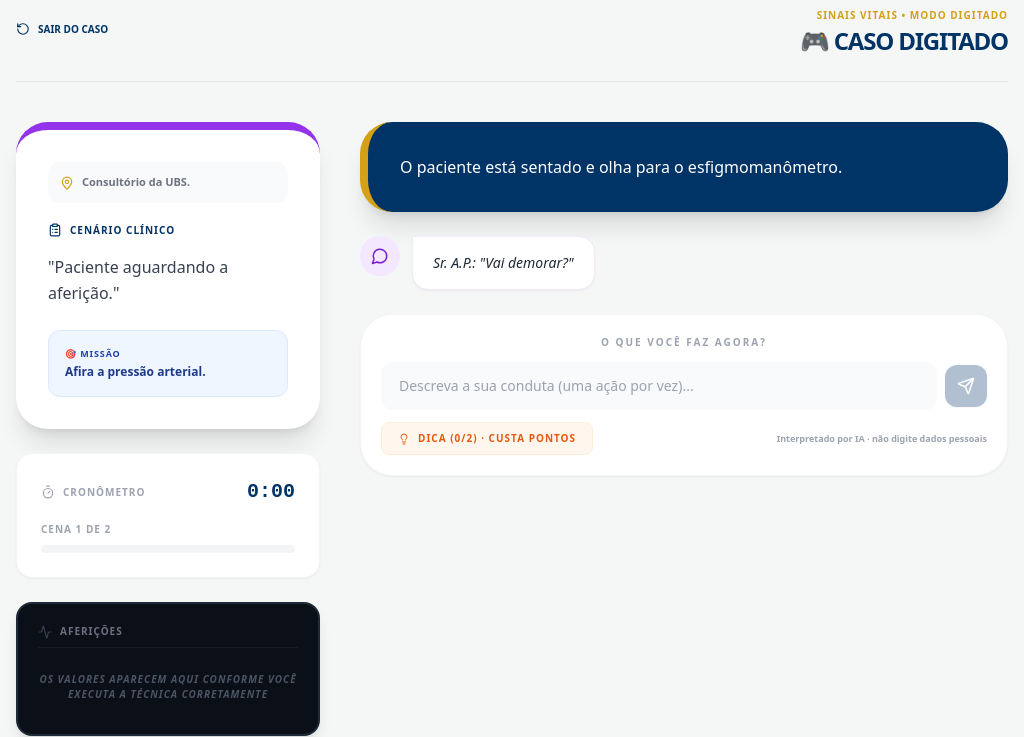
GuidedRpgView — modo digitado › repetir uma conduta errada que já foi vista avisa e não conta nova tentativa
Type "já vou medindo" into the field.
click(659, 386); type("já vou medindo")  # box x1=381 y1=362 x2=937 y2=410
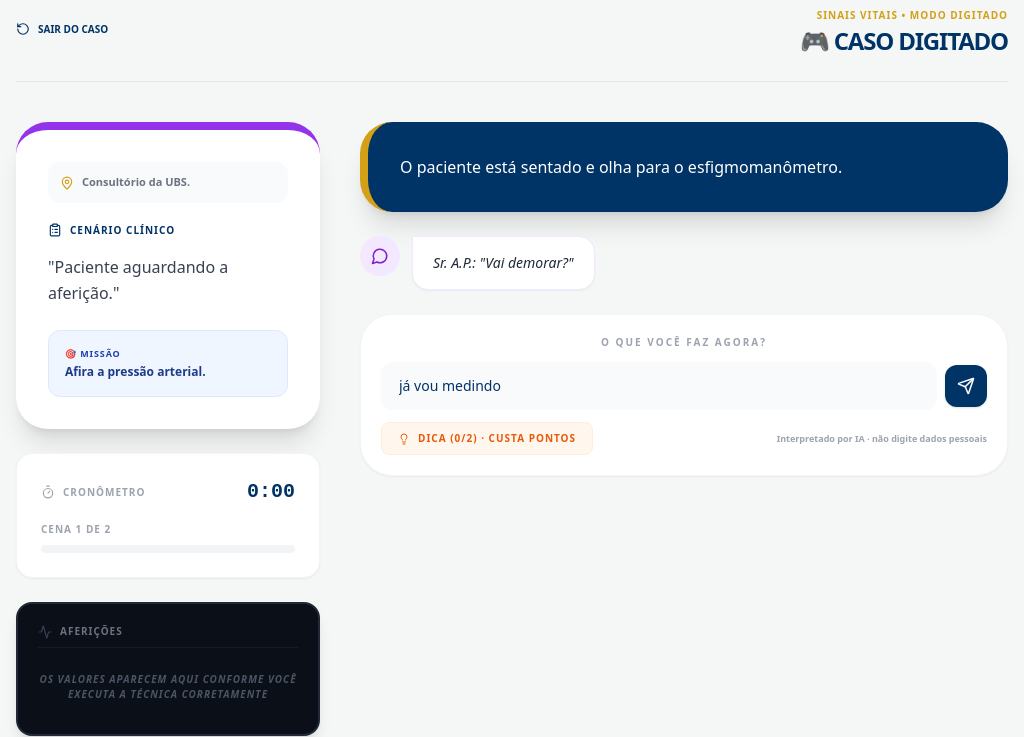
Click the button named "Enviar conduta".
click(966, 386)  # box x1=945 y1=365 x2=987 y2=407
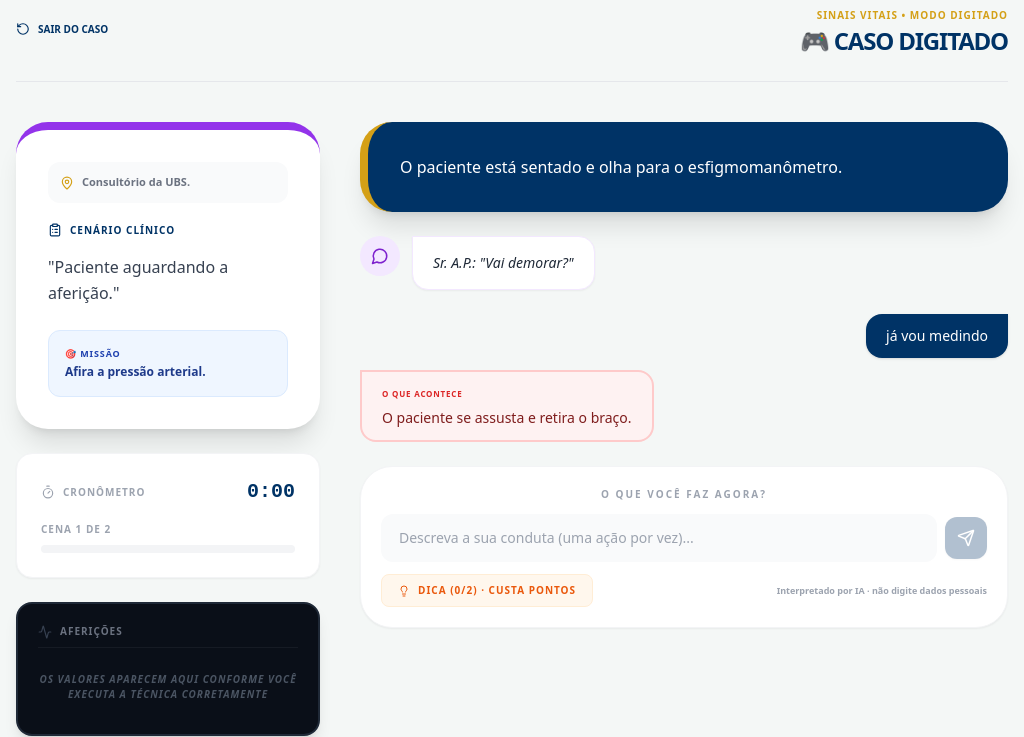
Result: the text "O paciente se assusta e retira o braço." is shown at x1=382 y1=408 x2=632 y2=427
Type "começo logo" into the field.
click(659, 538); type("começo logo")  # box x1=381 y1=514 x2=937 y2=562
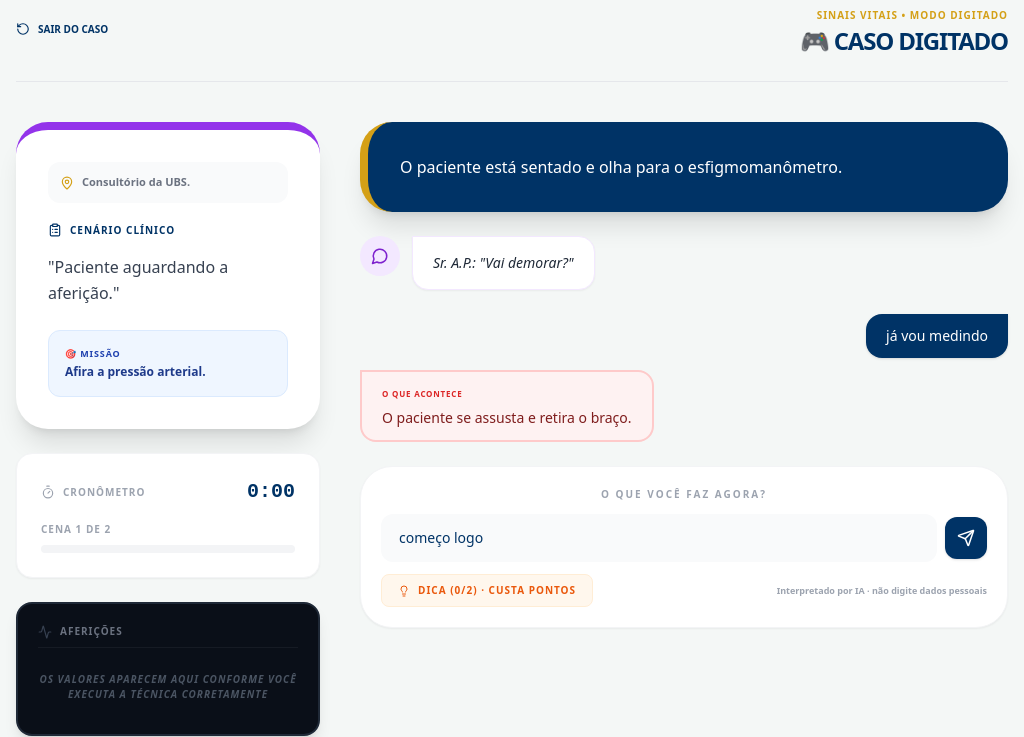
Click the button named "Enviar conduta".
click(966, 538)  # box x1=945 y1=517 x2=987 y2=559
(page scrolled)
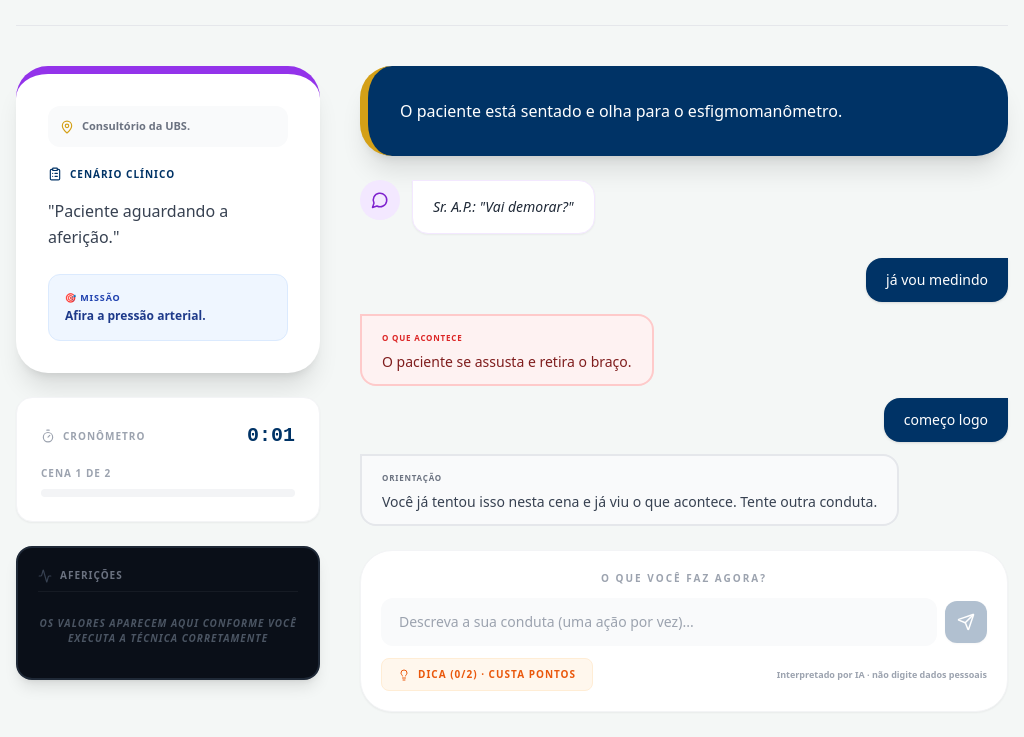
Result: the text "Você já tentou isso nesta cena" is shown at x1=382 y1=492 x2=877 y2=511
